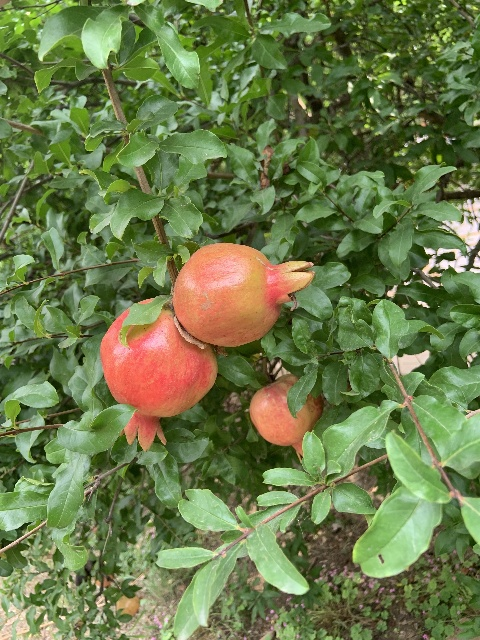mid-growth: (116, 593, 139, 617)
ripe: (100, 298, 217, 452), (173, 243, 314, 346), (249, 373, 323, 461)
